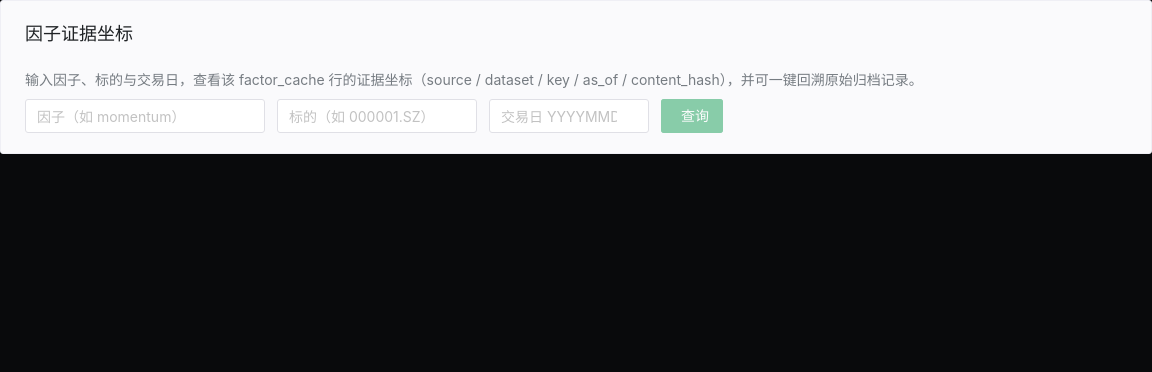
FactorCitation › states that a row with an empty citation has no A→B chain yet
Type "momentum" into the field with placeholder "因子（如 momentum）" at (135, 116), box [37, 99, 233, 133]
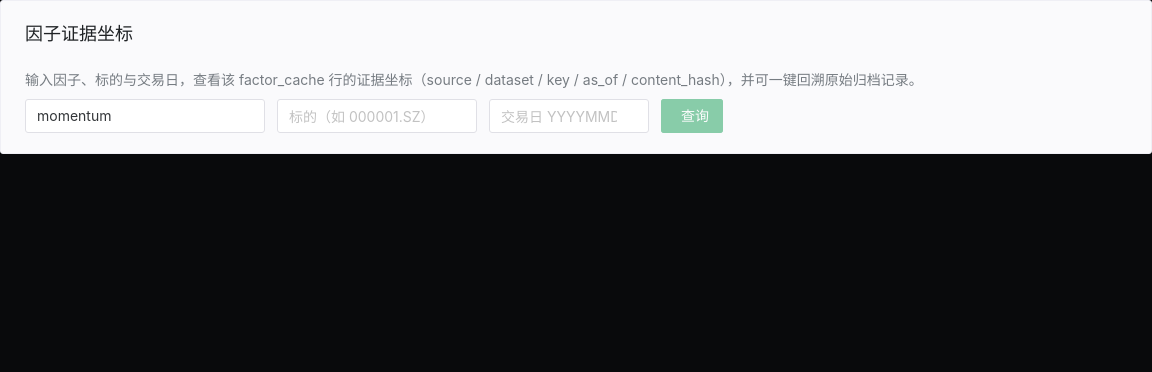
Type "000001.SZ" into the field with placeholder "标的（如 000001.SZ）" at (367, 116), box [289, 99, 445, 133]
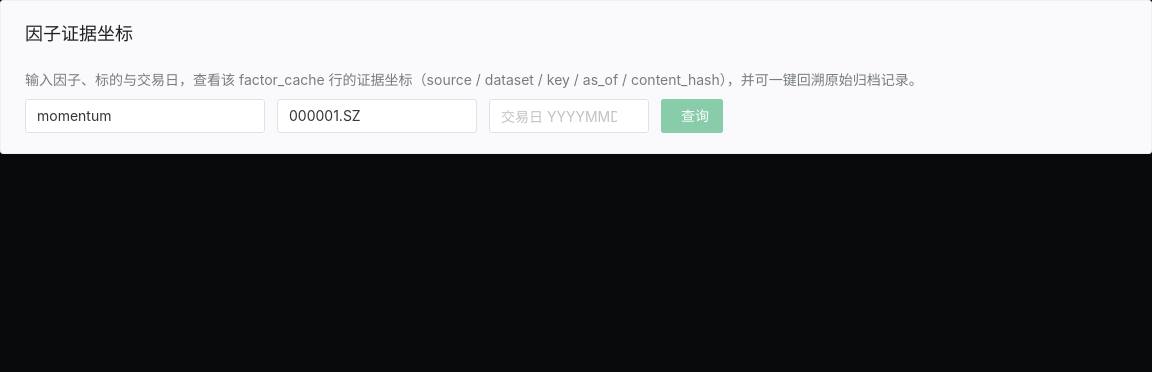
Type "20260105" into the field with placeholder "交易日 YYYYMMDD" at (559, 116), box [501, 99, 617, 133]
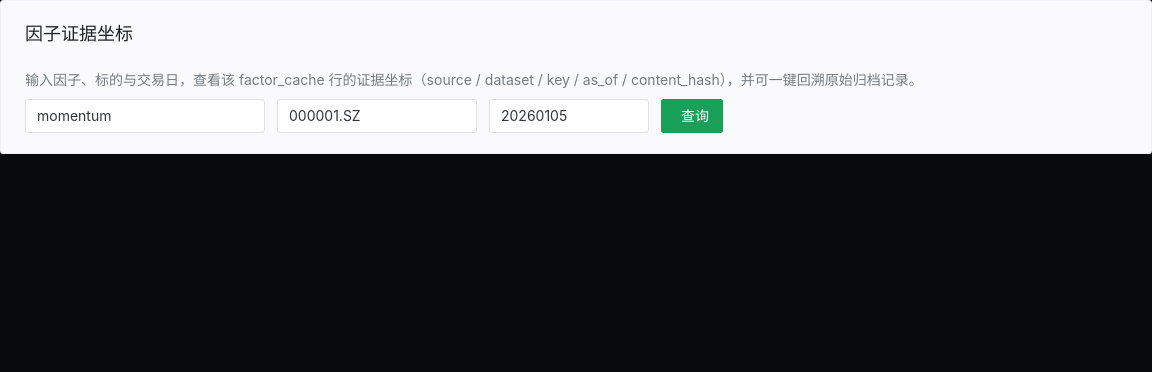
Click the button "查询" at (692, 116), box [661, 99, 723, 133]
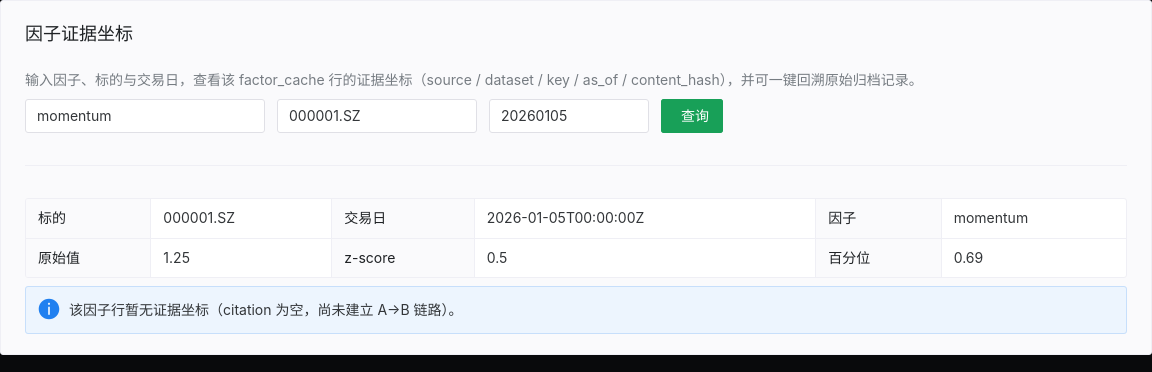
Result: the text "暂无证据坐标" is shown at [69, 301, 462, 318]
